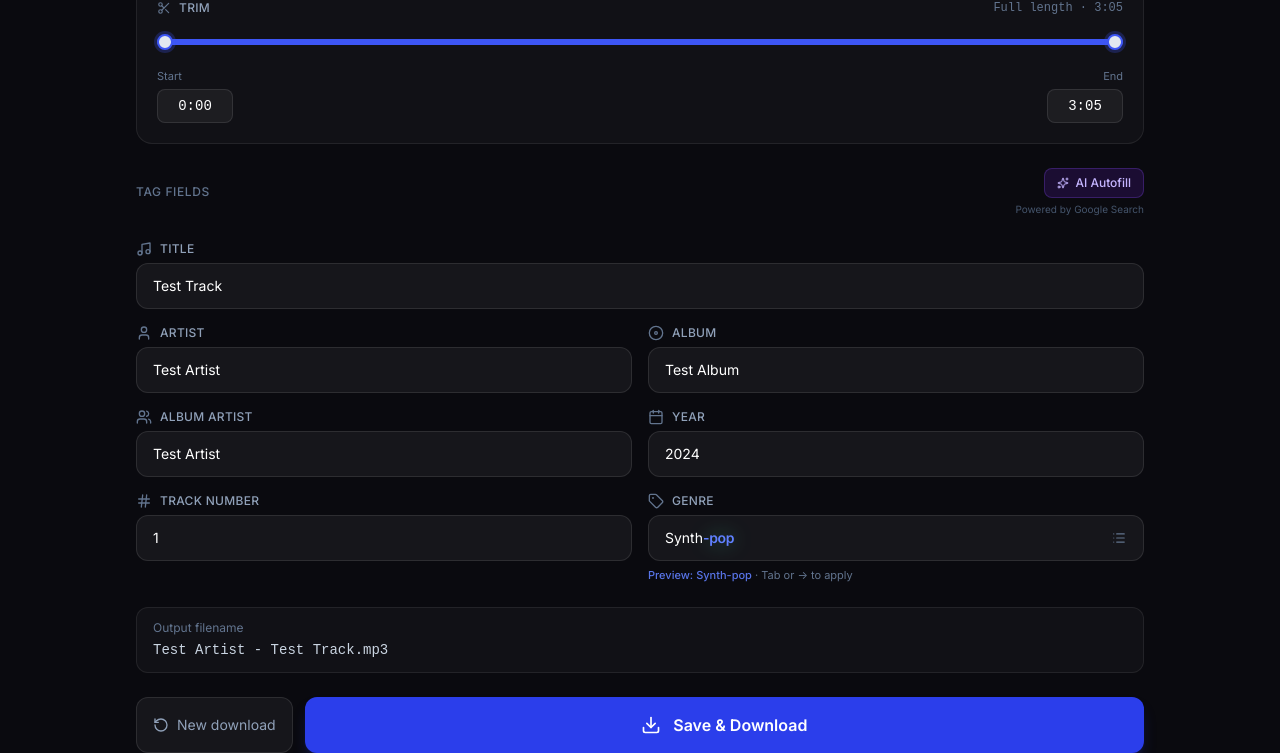
TagEditor genre autocomplete › shows an obvious preview and applies the saved genre on Tab
The width and height of the screenshot is (1280, 753).
(page scrolled)
Expected: the text "Preview: Synth-pop · Tab or → to apply" is shown, [648,568,853,582]
Click the field with id "tag-genre" at point(882, 538), box [665,528,1099,548]
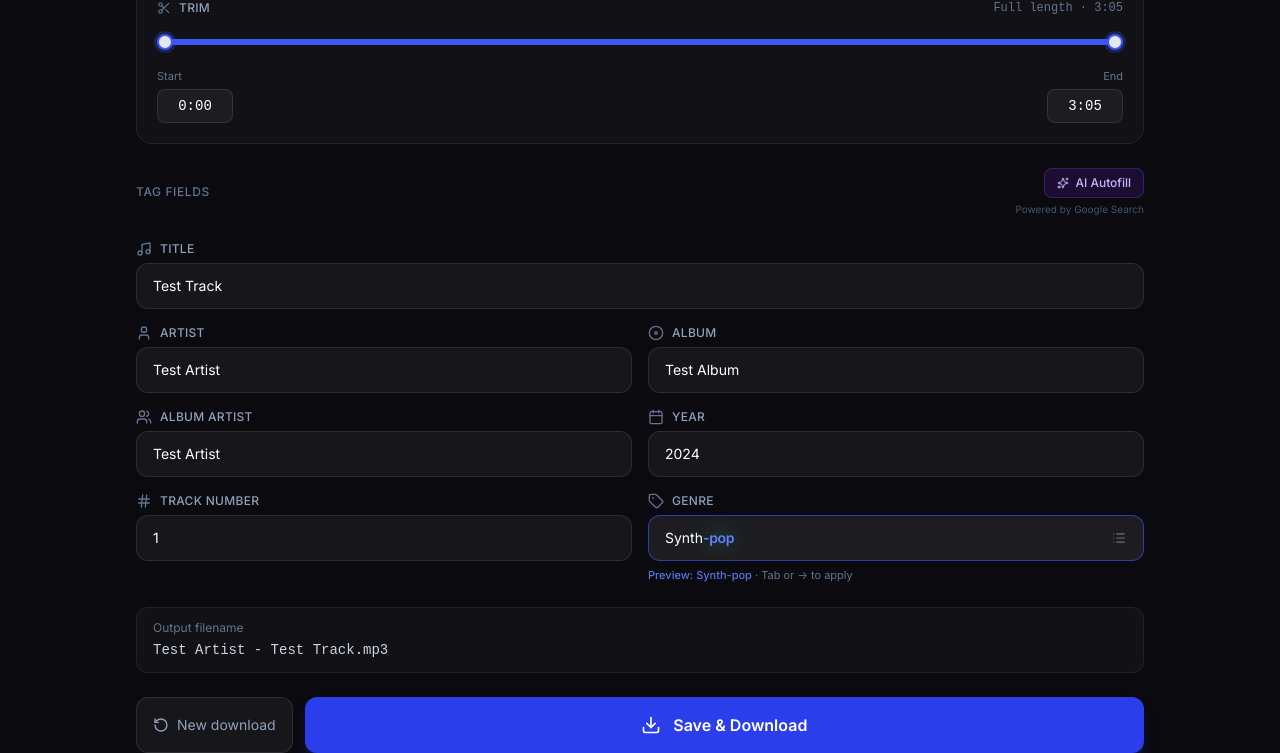
Press Tab
(page scrolled)
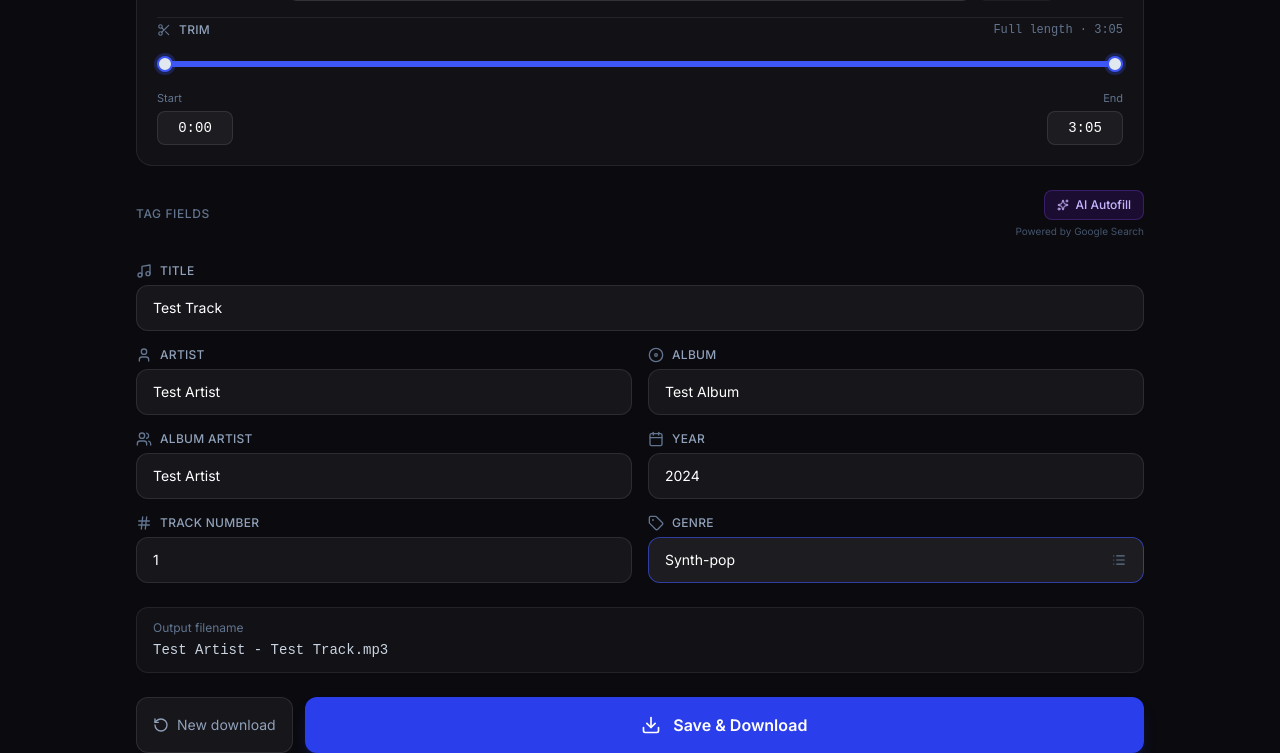
Now the field with id "tag-genre" holds "Synth-pop", box [665,550,1099,570]
